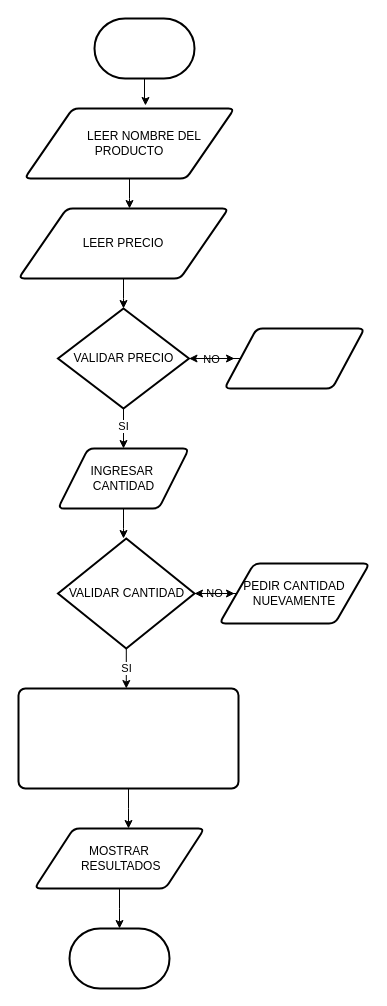
Some shapes in this 387 by 1006 pixel diagram are drawn without their labels. The shapes that lost their labels are listed below. From the top down, each one's box as (x1, y1, x2, y2) in pixels, then its label:
(93, 17, 195, 79): INICIO
(223, 327, 365, 389): PEDIR PRECIO NUEVAMENTE
(17, 687, 239, 789): CALCULAR COSTO TOTAL= PRECIO X CANTIDAD
(68, 927, 170, 989): FIN
